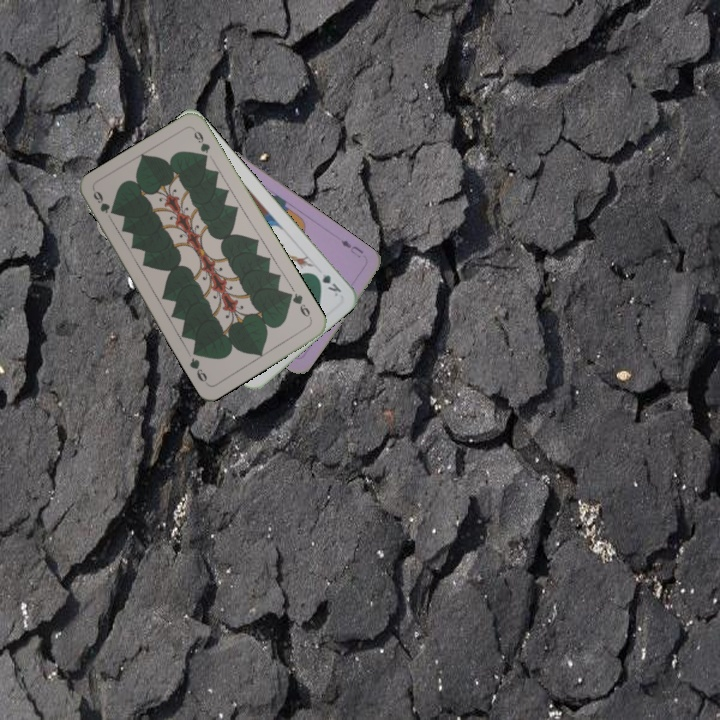EU: (337, 235, 366, 261)
G9: (284, 289, 315, 323), (89, 187, 112, 216)
GK: (309, 269, 344, 299)
